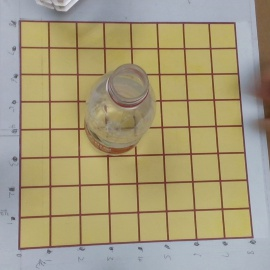bottle: (85, 65, 154, 165)
